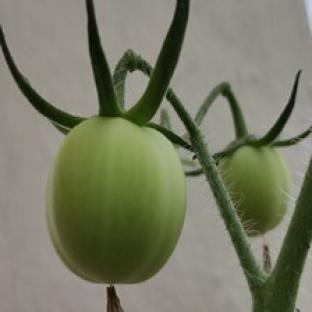Tomato: (46, 117, 185, 284), (221, 147, 289, 235)
